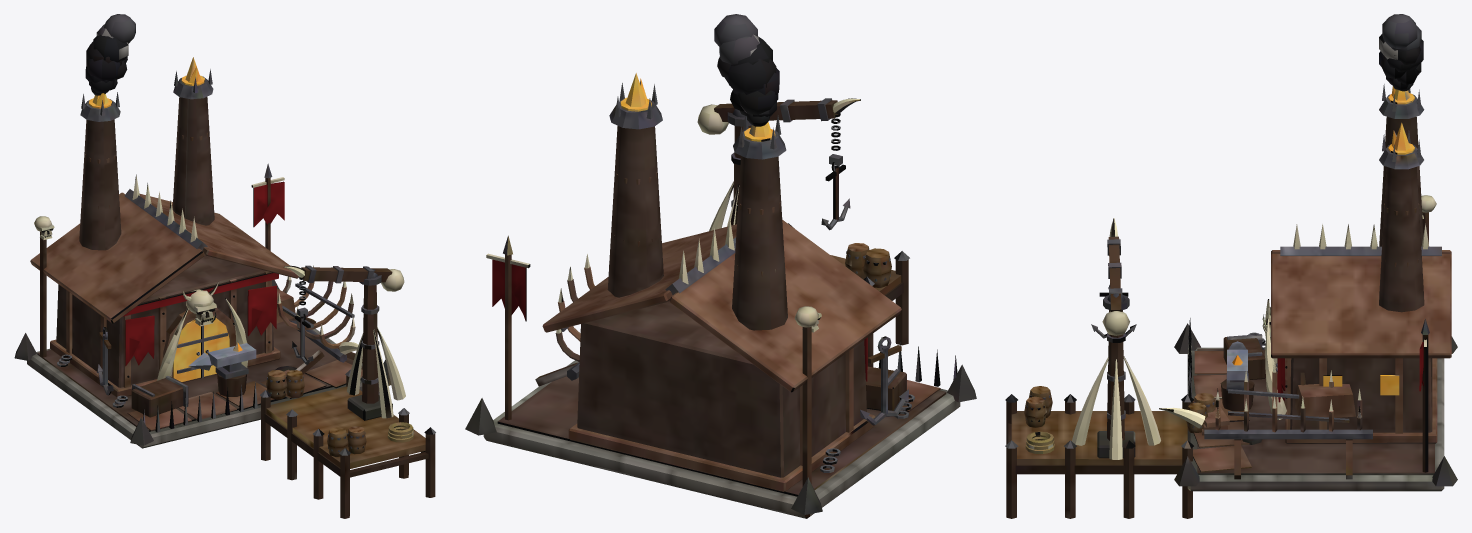
File: naval_forge.glb
The picture shows the model from 3 angles, left to right: view 1: azimuth 30°, elevation 25°; view 2: azimuth 150°, elevation 25°; view 3: azimuth 270°, elevation 25°; orthographic projection. The views are drawn at different scales.
Visible parts, largest first — view 1: Static_Mesh, Anim_Banners, Anim_Smoke, Anim_Crane; view 2: Static_Mesh, Anim_Smoke, Anim_Crane, Anim_Banners; view 3: Static_Mesh, Anim_Smoke, Anim_Crane, Anim_Banners.
Part boxes in pixels (x1=…): Static_Mesh: x1=14, y1=57, x2=435, y2=518; Anim_Banners: x1=123, y1=181, x2=284, y2=366; Anim_Smoke: x1=85, y1=14, x2=135, y2=95; Anim_Crane: x1=284, y1=265, x2=404, y2=364; Static_Mesh: x1=465, y1=73, x2=976, y2=518; Anim_Smoke: x1=714, y1=14, x2=779, y2=126; Anim_Crane: x1=697, y1=98, x2=860, y2=230; Anim_Banners: x1=492, y1=259, x2=867, y2=381; Static_Mesh: x1=1005, y1=84, x2=1457, y2=518; Anim_Smoke: x1=1379, y1=14, x2=1423, y2=91; Anim_Crane: x1=1091, y1=218, x2=1136, y2=338; Anim_Banners: x1=1277, y1=342, x2=1423, y2=402.
Bounding box in the file's own units: 7.14 × 9.92 × 9.53.
Materials: 2 (2 with a texture image).
